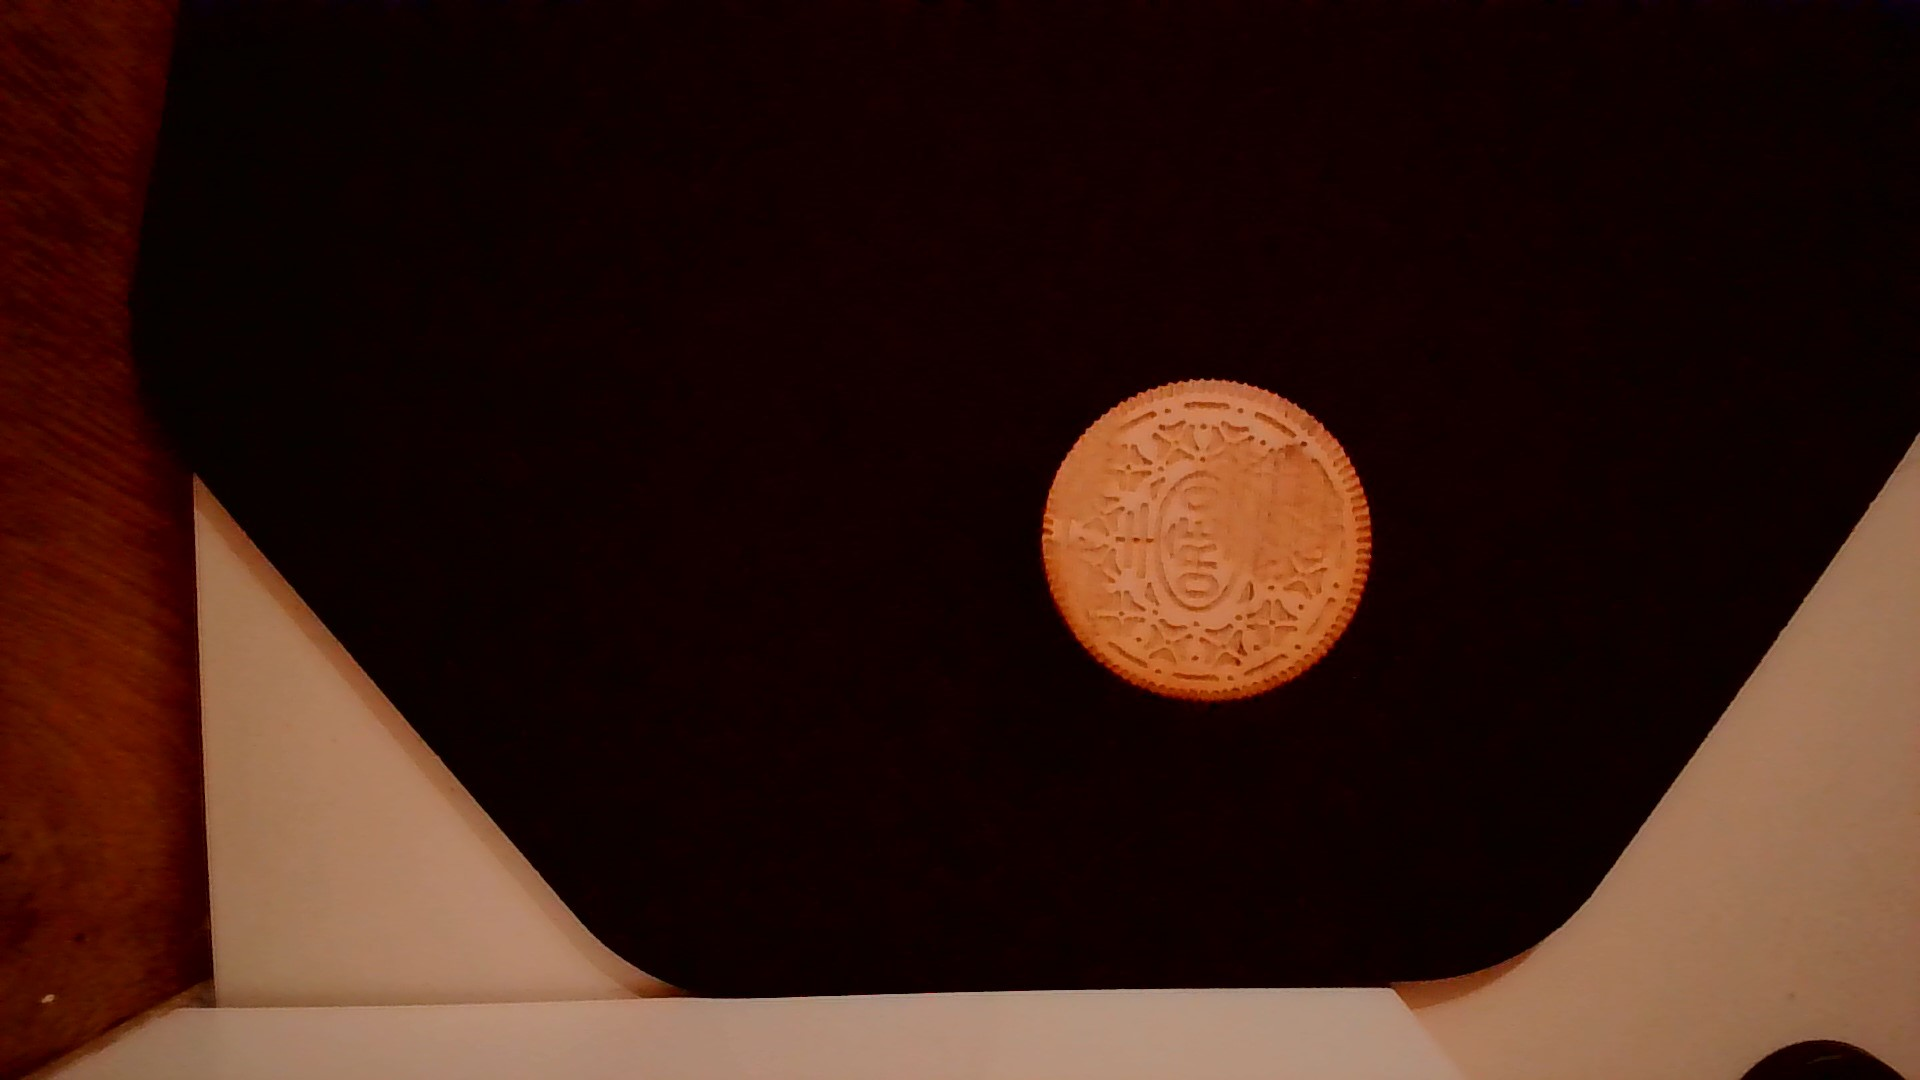Effacé: (1211, 450, 1333, 578), (1030, 531, 1113, 634), (1044, 413, 1116, 502)
Oréo: (1034, 375, 1375, 712)
